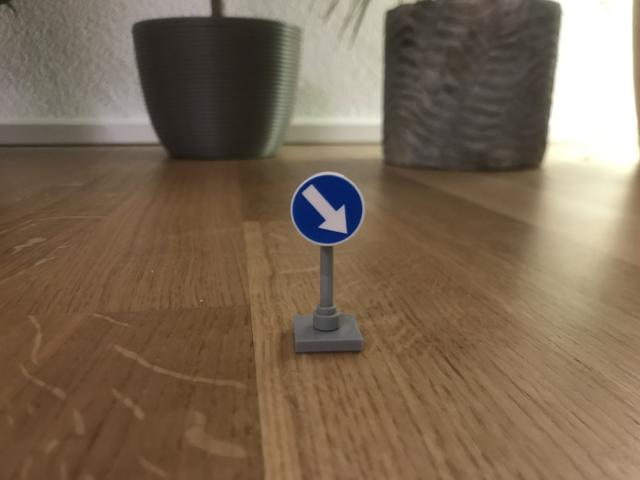rechts halten: (289, 171, 368, 259)
